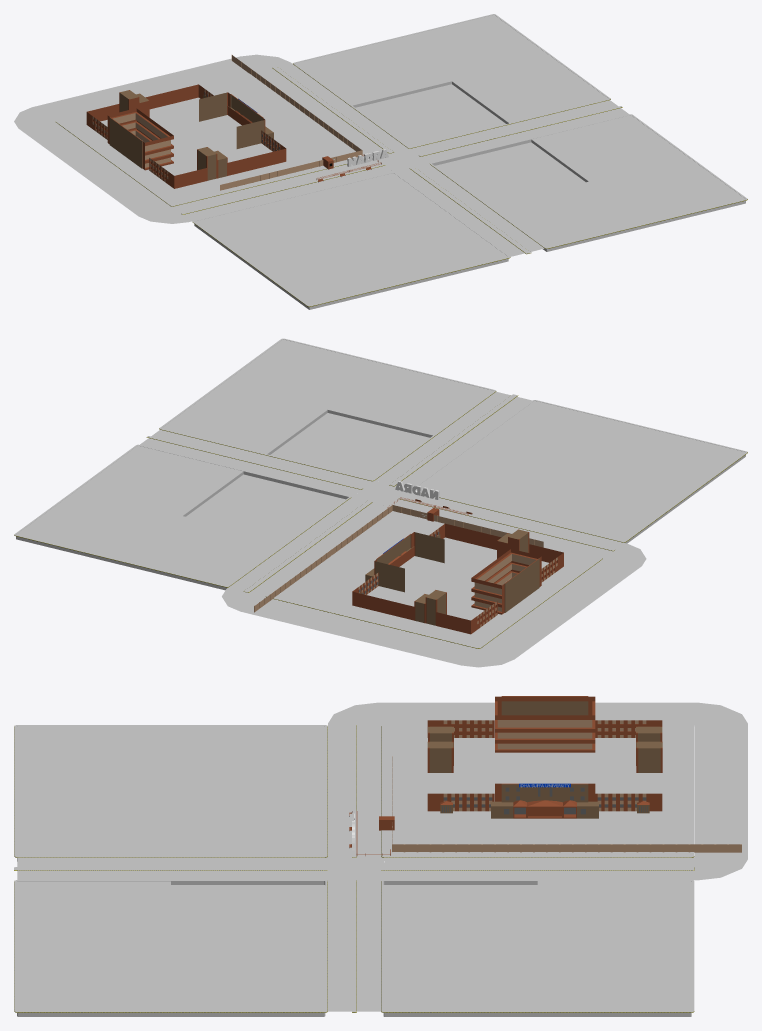
File: DSU.fbx
The picture shows the model from 3 angles, top to bottom: view 1: azimuth 30°, elevation 25°; view 2: azimuth 150°, elevation 25°; view 3: azimuth 270°, elevation 25°; orthographic projection. The views are drawn at different scales.
Visible parts, largest first — view 1: Cube.006, Cube.005, Cube.004, Cube.003, Cube.007, Plane, Plane.001, Cube, Cube.001, road network, Cube.010, Cube.011 (+2 smaller); view 2: Cube.004, Cube.006, Cube.005, Cube.003, Cube.007, Plane, Plane.001, Cube.001, road network, Cube, Cube.011, Cube.010 (+2 smaller); view 3: Cube.004, Cube.005, Cube.006, Cube.003, Cube.007, Plane, Plane.001, Cube.001, road network, Cube.010, Cube.011, Cube.009 (+1 smaller).
Part boxes in pixels (box(x1,y1,x2,y2)): Cube.006: box(192, 172, 510, 309); Cube.005: box(430, 114, 747, 251); Cube.004: box(293, 14, 610, 148); Cube.003: box(14, 54, 629, 256); Cube.007: box(55, 72, 368, 206); Plane: box(119, 84, 286, 180); Plane.001: box(86, 104, 206, 188); Cube: box(220, 150, 362, 190); Cube.001: box(231, 55, 361, 151); road network: box(378, 147, 430, 173); Cube.010: box(409, 167, 531, 254); Cube.011: box(272, 67, 393, 153); Cube.004: box(14, 444, 351, 590); Cube.006: box(416, 400, 747, 543); Cube.005: box(159, 338, 496, 481); Cube.003: box(140, 391, 646, 667); Cube.007: box(265, 506, 602, 648); Plane: box(352, 523, 529, 625); Plane.001: box(436, 544, 563, 634); Cube.001: box(254, 505, 392, 612); road network: box(350, 480, 406, 507); Cube: box(392, 505, 543, 547); Cube.011: box(243, 500, 372, 592); Cube.010: box(389, 394, 518, 486); Cube.004: box(381, 880, 694, 1016); Cube.005: box(14, 880, 327, 1016); Cube.006: box(14, 725, 327, 861); Cube.003: box(17, 702, 747, 1011); Cube.007: box(381, 725, 694, 857); Plane: box(427, 726, 662, 818); Plane.001: box(427, 696, 662, 752); Cube.001: box(392, 844, 741, 852); road network: box(323, 856, 386, 881); Cube.010: box(14, 867, 327, 870); Cube.011: box(381, 867, 694, 870); Cube.009: box(352, 880, 356, 1012).
Size of the model in its own units: 34388 by 2297 by 34390.
